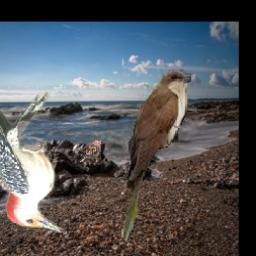Cuckoo: (122, 70, 192, 241)
Sparrow: (81, 139, 102, 162)
Woodpecker: (0, 92, 66, 233)
